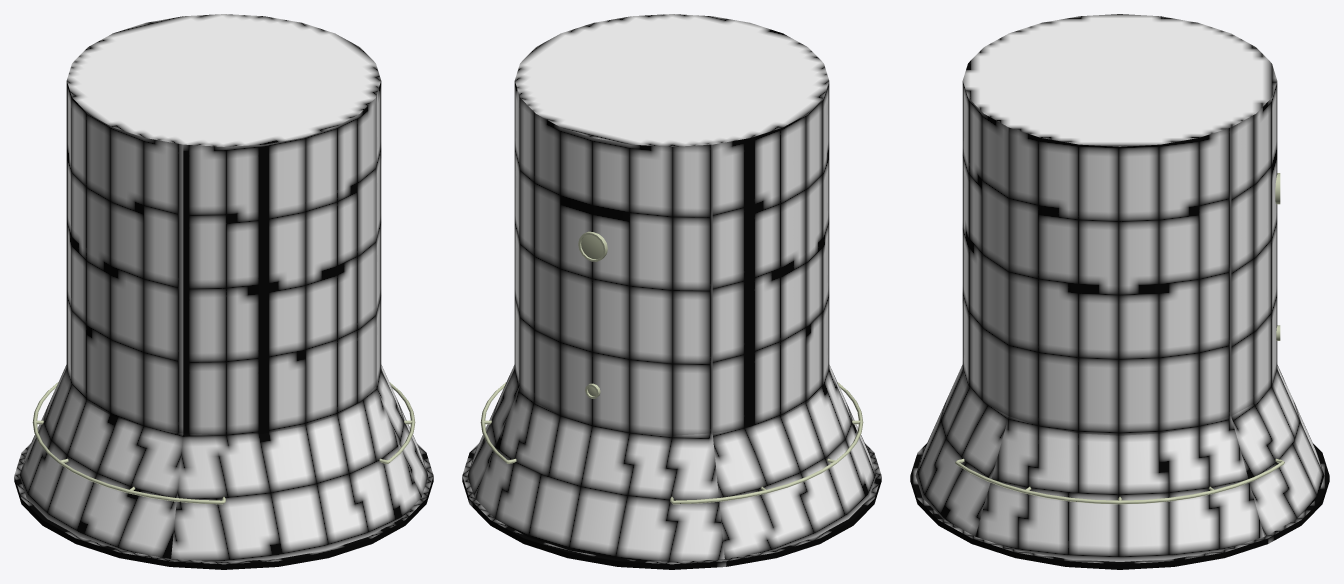
The model's file is Eridani_Crew_1_Interior.obj.
The picture shows the model from 3 angles, left to right: view 1: azimuth 30°, elevation 25°; view 2: azimuth 150°, elevation 25°; view 3: azimuth 270°, elevation 25°; orthographic projection.
Parts seen in each view (by area): view 1: Eridani_Crew_1_Interior, Eridani_Crew_1_Mask; view 2: Eridani_Crew_1_Interior, Eridani_Crew_1_Mask; view 3: Eridani_Crew_1_Interior, Eridani_Crew_1_Mask.
Part boxes in pixels (x1,y1,x2,y2): Eridani_Crew_1_Interior: (14, 14, 433, 569); Eridani_Crew_1_Mask: (32, 382, 415, 504); Eridani_Crew_1_Interior: (462, 14, 881, 569); Eridani_Crew_1_Mask: (480, 231, 863, 504); Eridani_Crew_1_Interior: (910, 14, 1329, 569); Eridani_Crew_1_Mask: (955, 173, 1284, 504).
Size of the model in its own units: 2.5 by 2.64 by 2.5.
2 materials, 1 textured.
